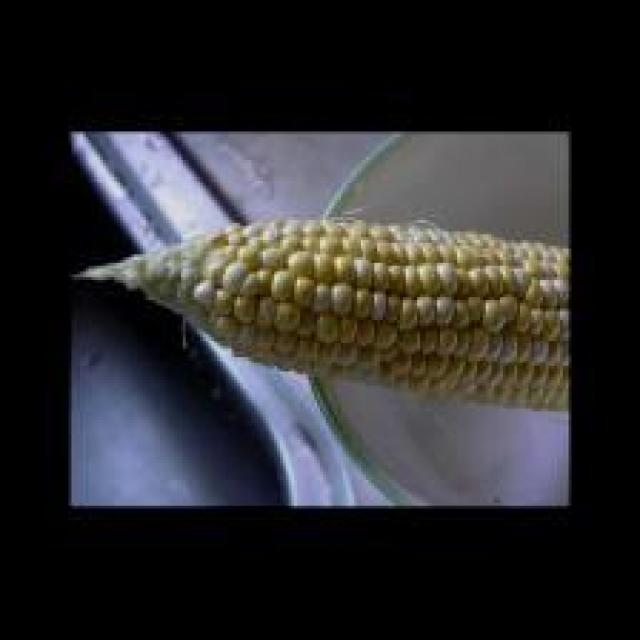corn: (83, 220, 569, 414)
